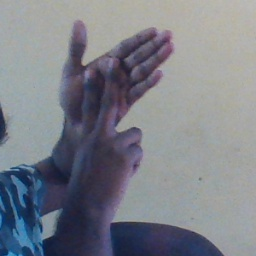N: (48, 11, 185, 189)
